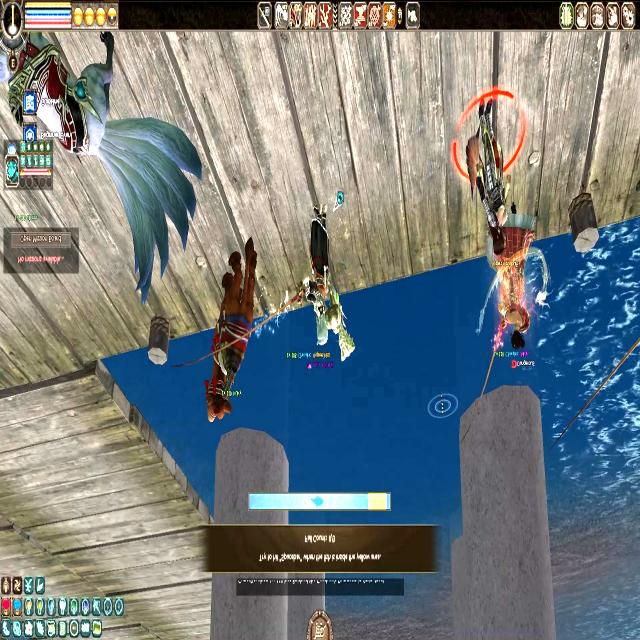fishes: (310, 494, 324, 508)
